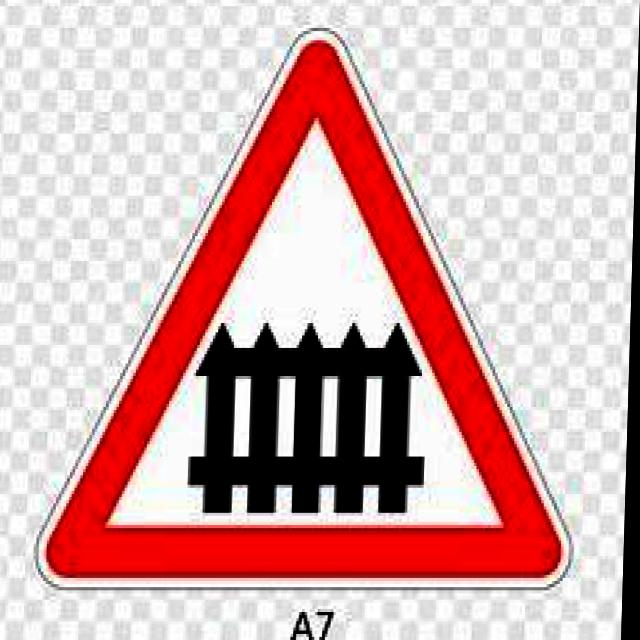GUARDED_LEVEL_CROSSING: (40, 31, 593, 593)
